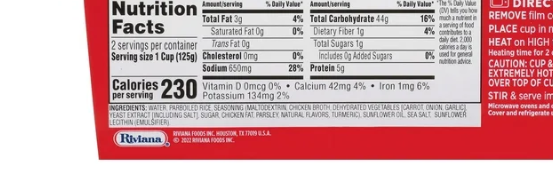l: (107, 103, 475, 126)
